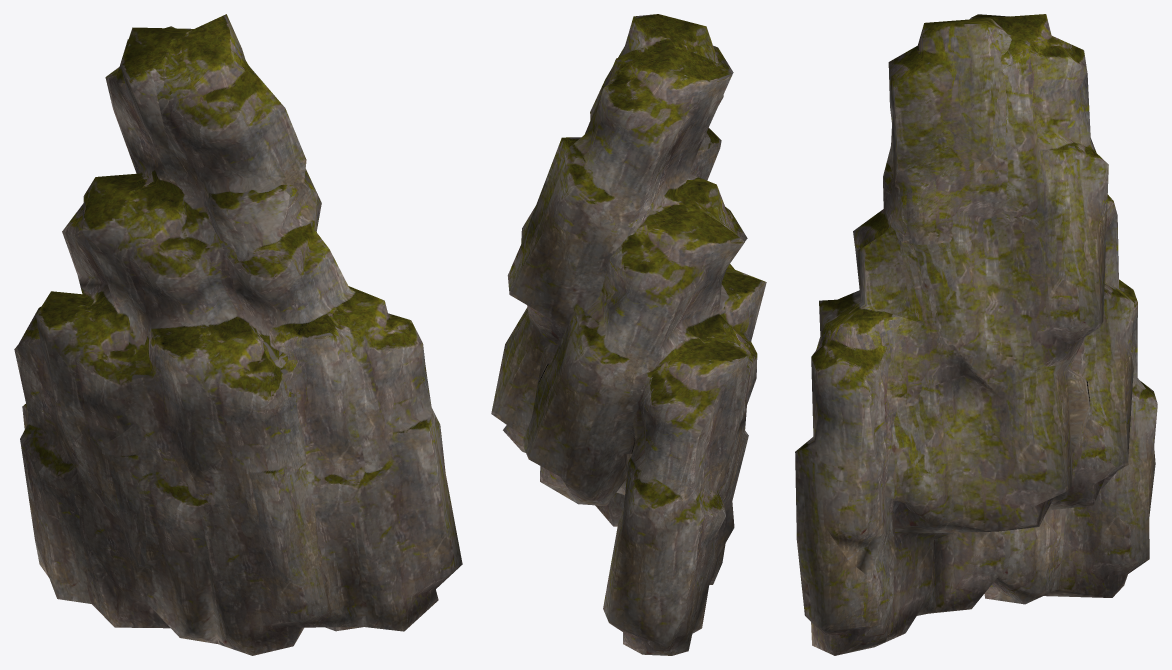
Rendered from SM_PROXY_SM_Cliff_01f.fbx.
The picture shows the model from 3 angles, left to right: view 1: azimuth 30°, elevation 25°; view 2: azimuth 150°, elevation 25°; view 3: azimuth 270°, elevation 25°; orthographic projection. The views are drawn at different scales.
Visible parts, largest first — view 1: SM_PROXY_SM_Cliff_01f_LOD0; view 2: SM_PROXY_SM_Cliff_01f_LOD0; view 3: SM_PROXY_SM_Cliff_01f_LOD0.
Boxes of the visible parts, left/top/right/bottom form: SM_PROXY_SM_Cliff_01f_LOD0: left=14, top=14, right=462, bottom=655; SM_PROXY_SM_Cliff_01f_LOD0: left=491, top=14, right=766, bottom=655; SM_PROXY_SM_Cliff_01f_LOD0: left=795, top=14, right=1157, bottom=655.
Size of the model in its own units: 16801 by 17287 by 31911.
